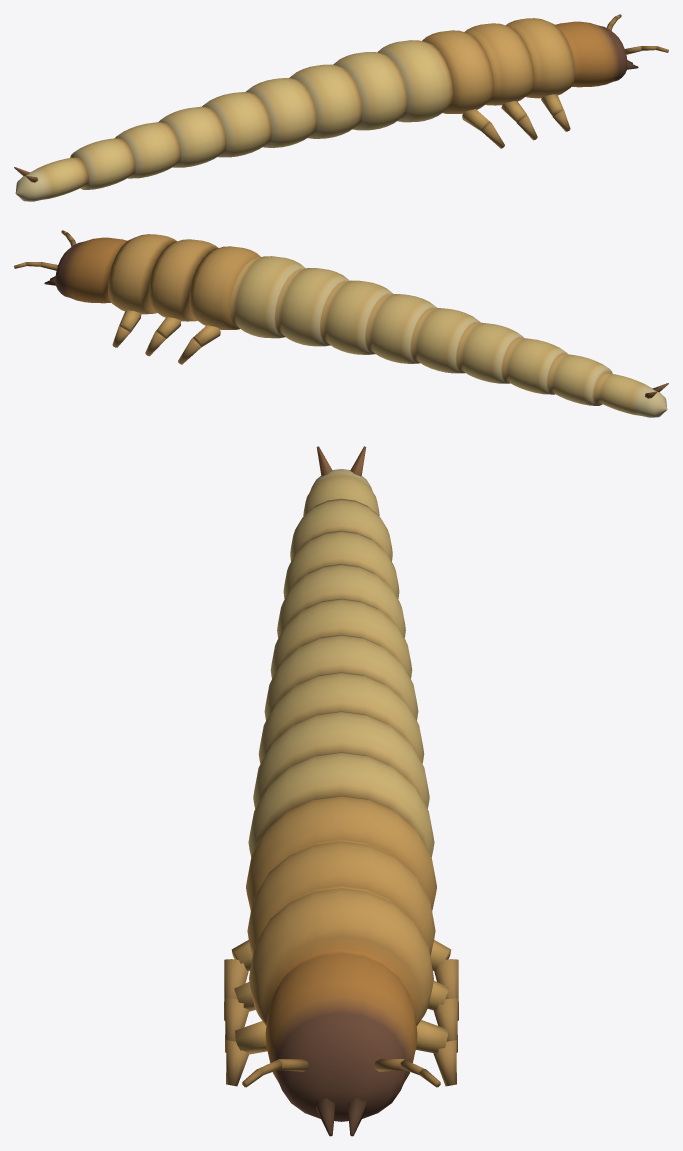
File: mealworm.glb
3 renders of one model, top to bottom at view 1: azimuth 30°, elevation 25°; view 2: azimuth 150°, elevation 25°; view 3: azimuth 270°, elevation 25°, orthographic. The views are drawn at different scales.
Visible parts, largest first — view 1: mealworm; view 2: mealworm; view 3: mealworm.
Part boxes in pixels (x1=…): mealworm: x1=14, y1=14, x2=668, y2=201; mealworm: x1=14, y1=230, x2=668, y2=417; mealworm: x1=224, y1=446, x2=458, y2=1136.
Bounding box in the file's own units: 1.11 × 0.1663 × 0.1792.
